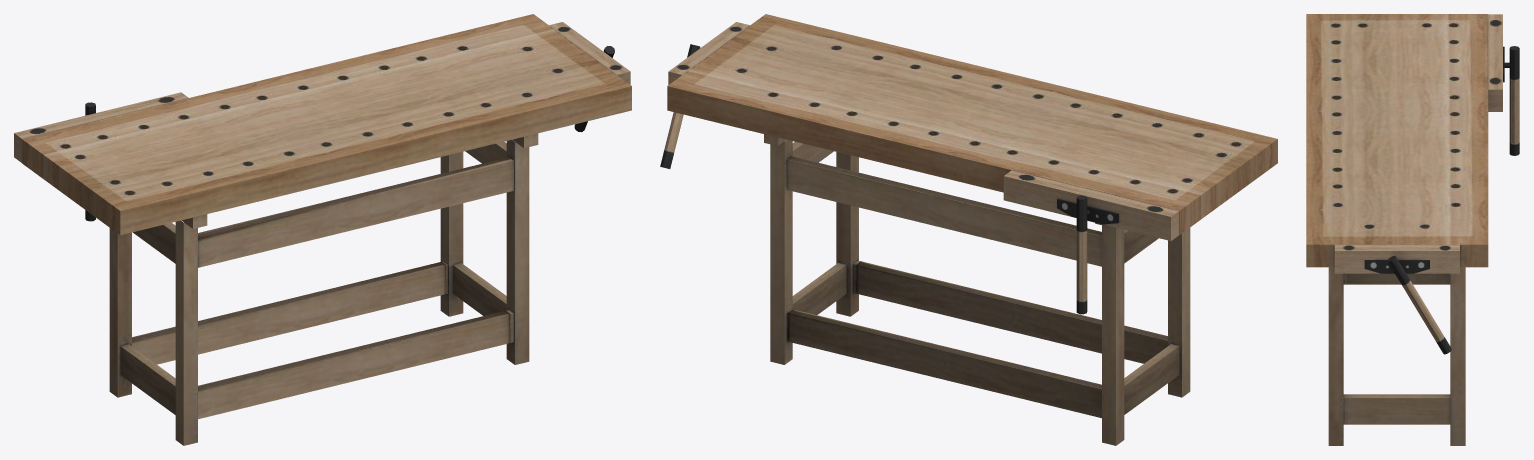
The picture shows the model from 3 angles, left to right: view 1: azimuth 30°, elevation 25°; view 2: azimuth 150°, elevation 25°; view 3: azimuth 270°, elevation 25°; orthographic projection. The views are drawn at different scales.
Visible parts, largest first — view 1: Mu-Gong-Zhuo_0; view 2: Mu-Gong-Zhuo_0; view 3: Mu-Gong-Zhuo_0.
Part boxes in pixels (left/top/right/bottom): Mu-Gong-Zhuo_0: left=14, top=14, right=631, bottom=445; Mu-Gong-Zhuo_0: left=660, top=14, right=1277, bottom=445; Mu-Gong-Zhuo_0: left=1306, top=14, right=1519, bottom=445.
Size of the model in its own units: 1.9 by 0.8933 by 0.7027.
Materials: 1 (1 with a texture image).
